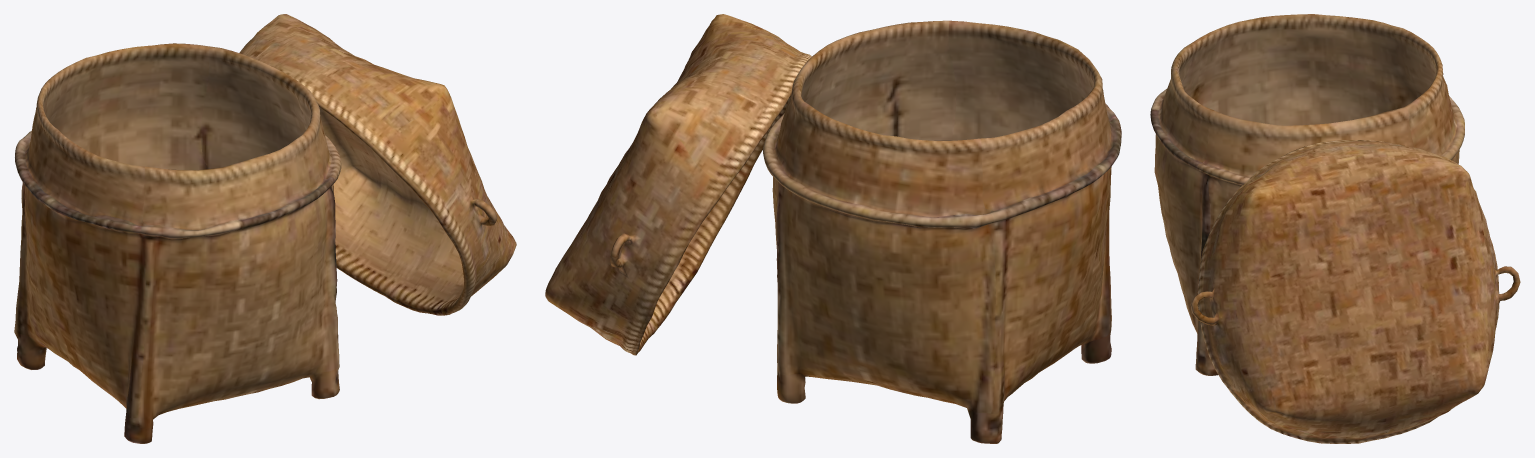
The model's file is wicker_basket_02.glb.
3 views of the same model, side by side, from view 1: azimuth 30°, elevation 25°; view 2: azimuth 150°, elevation 25°; view 3: azimuth 270°, elevation 25° (orthographic). The views are drawn at different scales.
Visible parts, largest first — view 1: wicker_basket_02_base, wicker_basket_02_lid; view 2: wicker_basket_02_base, wicker_basket_02_lid; view 3: wicker_basket_02_lid, wicker_basket_02_base.
Boxes of the visible parts, x1,y1,x2,y2 form: wicker_basket_02_base: (14, 43, 341, 443); wicker_basket_02_lid: (239, 14, 516, 315); wicker_basket_02_base: (763, 20, 1121, 443); wicker_basket_02_lid: (545, 14, 811, 355); wicker_basket_02_lid: (1190, 140, 1520, 443); wicker_basket_02_base: (1150, 14, 1464, 375).
Bounding box in the file's own units: 0.3469 × 0.2005 × 0.2545.
Materials: 1 (1 with a texture image).
